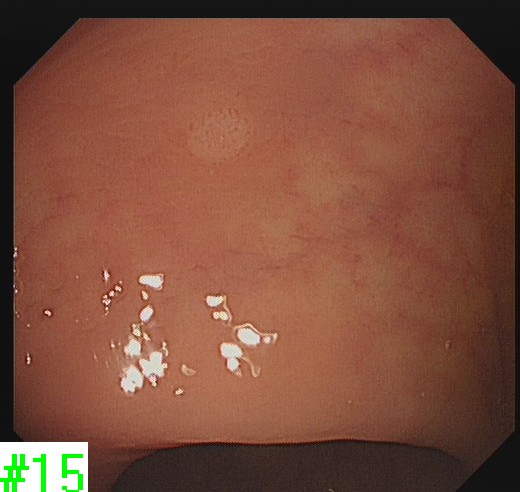others: (181, 112, 251, 165)
